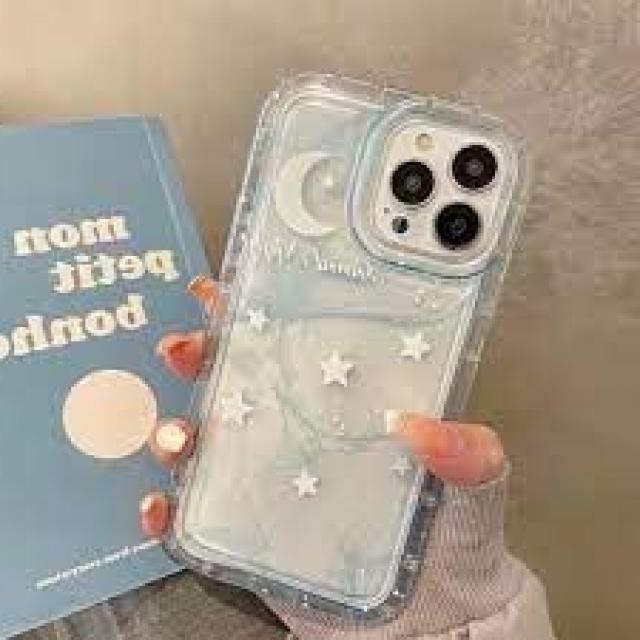mobile: (119, 53, 545, 629)
